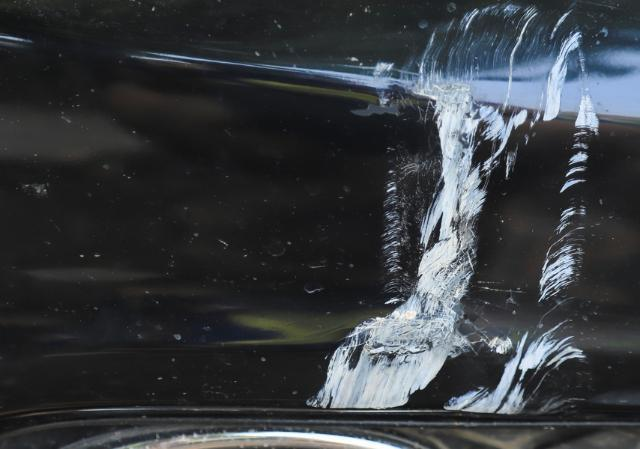Door: (282, 0, 640, 422)
